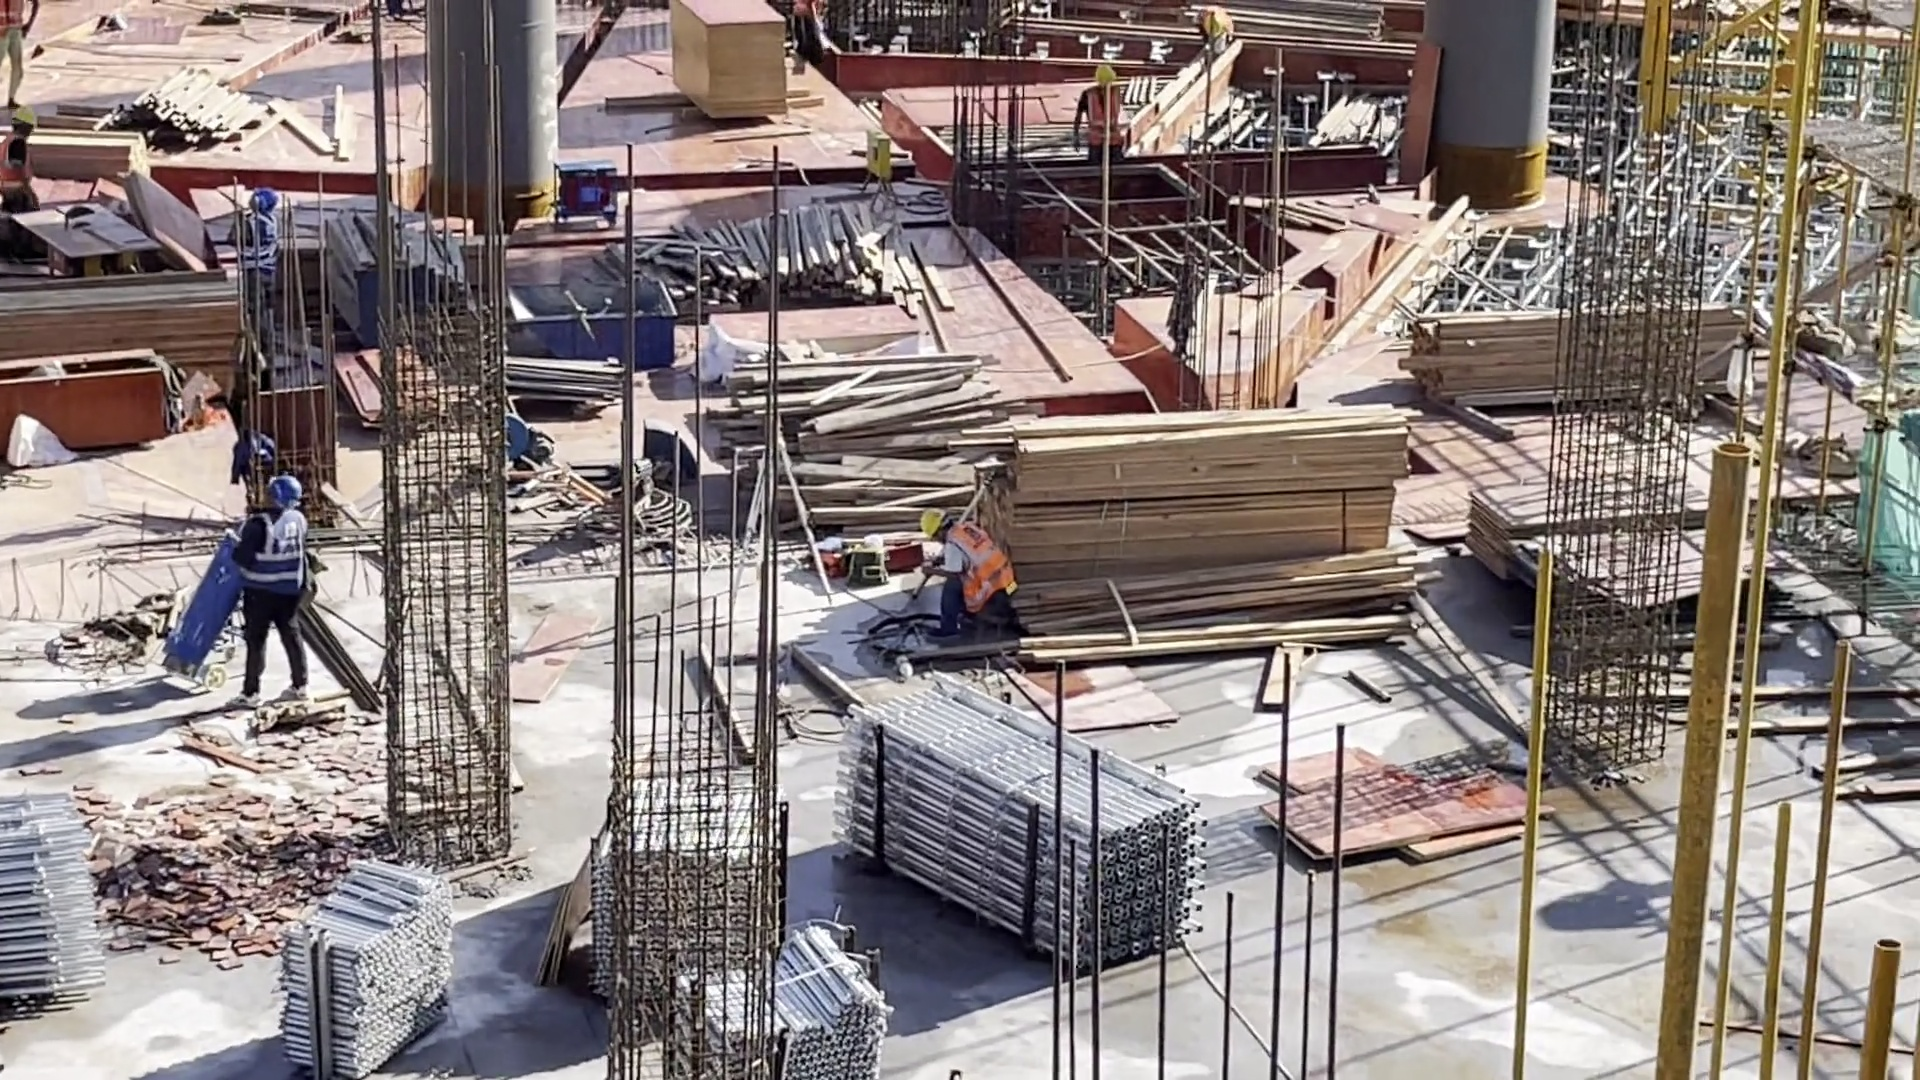helmet: (263, 476, 302, 508), (918, 509, 943, 538), (248, 190, 274, 211), (1091, 65, 1117, 86), (1204, 15, 1221, 37)
person: (243, 474, 317, 715), (915, 501, 1023, 628), (238, 187, 286, 342), (1070, 64, 1132, 168), (7, 105, 43, 222), (4, 2, 28, 109), (1189, 9, 1237, 53), (792, 1, 829, 57)
vest: (941, 524, 1015, 615), (247, 516, 307, 593), (1085, 89, 1125, 142), (237, 215, 278, 265)
